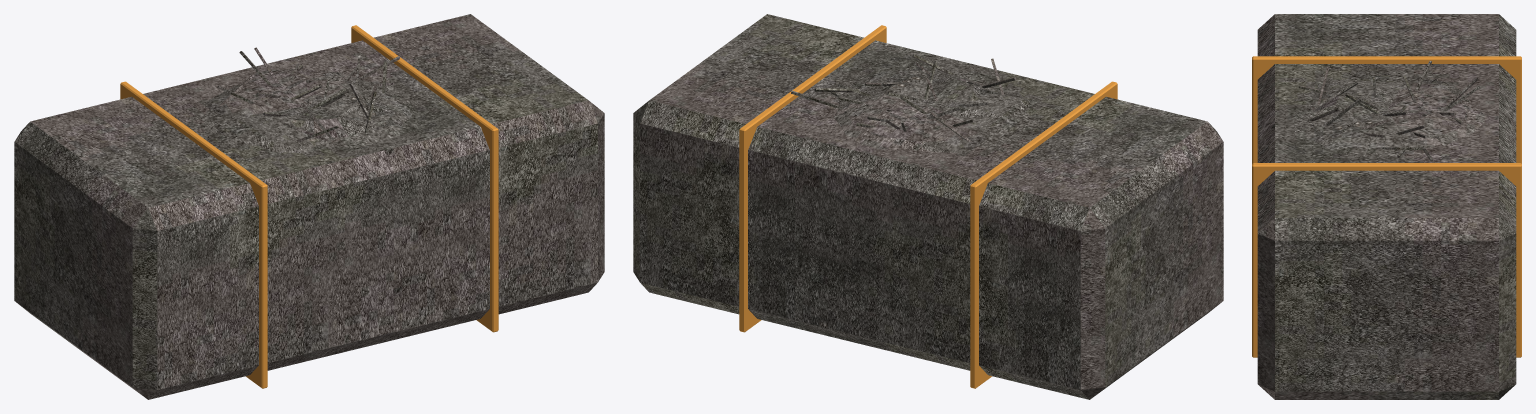
File: hay_bale_small_a.glb
3 views of the same model, side by side, from view 1: azimuth 30°, elevation 25°; view 2: azimuth 150°, elevation 25°; view 3: azimuth 270°, elevation 25° (orthographic). The views are drawn at different scales.
Visible parts, largest first — view 1: hay_bale_small_a_LOD0; view 2: hay_bale_small_a_LOD0; view 3: hay_bale_small_a_LOD0.
Boxes of the visible parts, x1=… form: hay_bale_small_a_LOD0: x1=14, y1=14, x2=604, y2=399; hay_bale_small_a_LOD0: x1=633, y1=14, x2=1223, y2=399; hay_bale_small_a_LOD0: x1=1252, y1=14, x2=1521, y2=399.
Size of what is drawn, in the model's own units: 0.9 by 0.4178 by 0.47.
2 materials, 1 textured.
